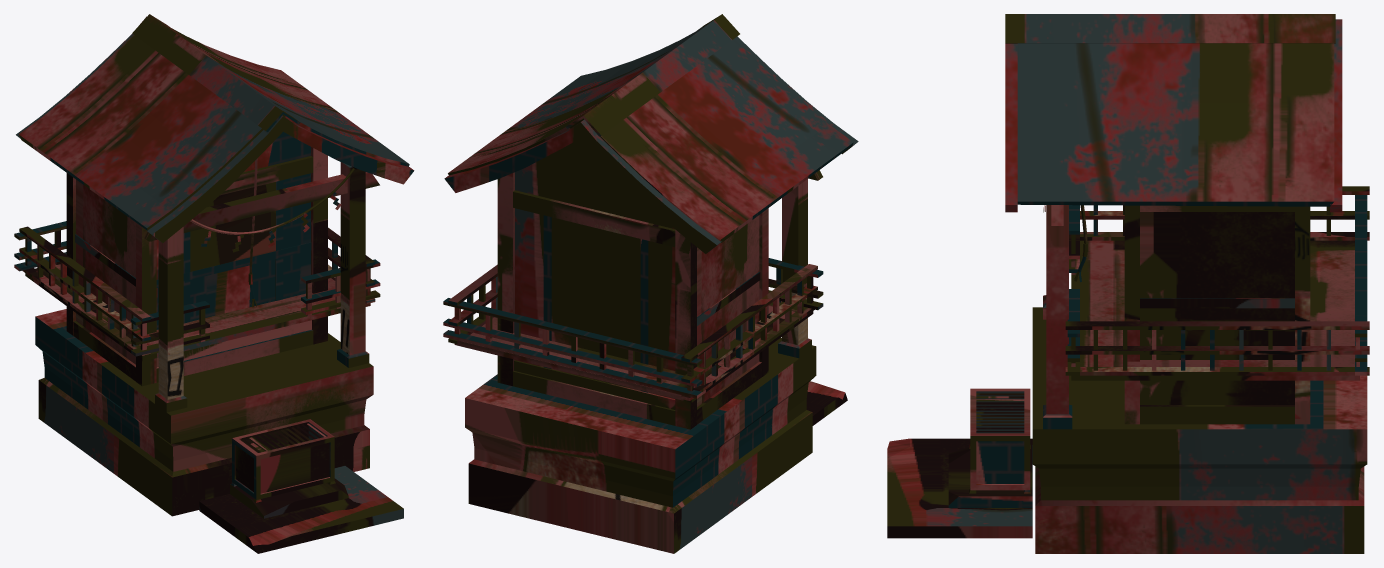
The model's file is Mini Templo.fbx.
The picture shows the model from 3 angles, left to right: view 1: azimuth 30°, elevation 25°; view 2: azimuth 150°, elevation 25°; view 3: azimuth 270°, elevation 25°; orthographic projection. The views are drawn at different scales.
Visible parts, largest first — view 1: Mini templo_LOD0; view 2: Mini templo_LOD0; view 3: Mini templo_LOD0.
Boxes of the visible parts, bbox=[...] form: Mini templo_LOD0: bbox=[14, 14, 414, 553]; Mini templo_LOD0: bbox=[443, 14, 858, 553]; Mini templo_LOD0: bbox=[887, 14, 1369, 553].
Size of what is drawn, in the model's own units: 208 by 294 by 268.
